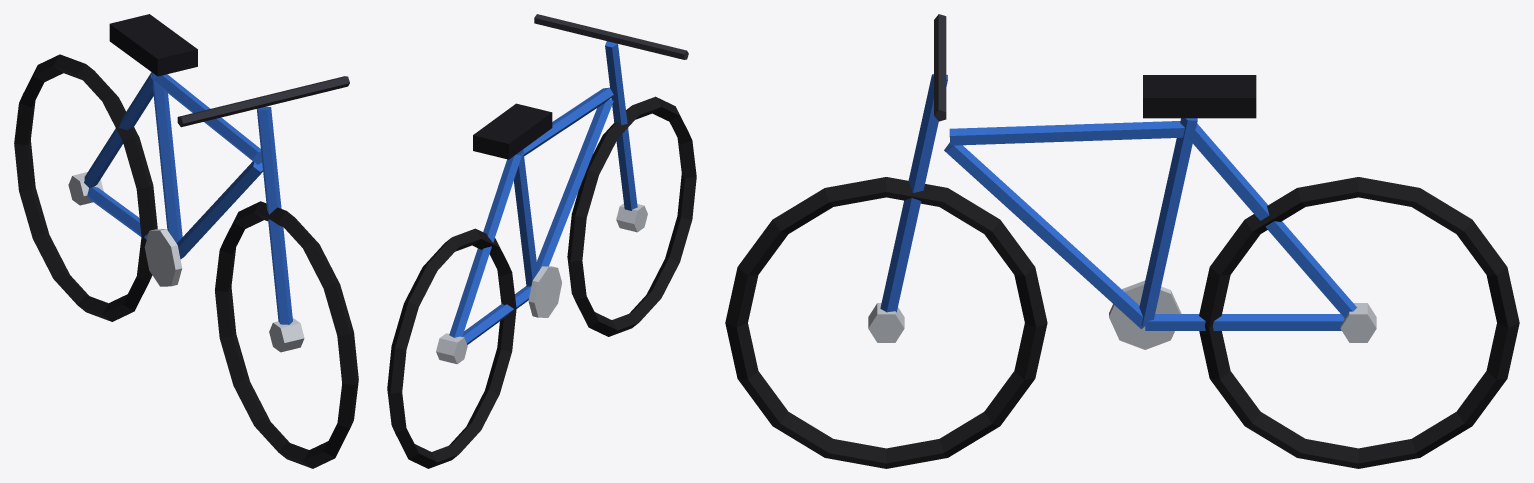
Rendered from bicycle.glb.
The picture shows the model from 3 angles, left to right: view 1: azimuth 30°, elevation 25°; view 2: azimuth 150°, elevation 25°; view 3: azimuth 270°, elevation 25°; orthographic projection. The views are drawn at different scales.
Visible parts, largest first — view 1: bicycle; view 2: bicycle; view 3: bicycle.
Part boxes in pixels (left/top/right/bottom): bicycle: left=14, top=14, right=358, bottom=468; bicycle: left=387, top=14, right=696, bottom=468; bicycle: left=725, top=14, right=1519, bottom=468.
Bounding box in the file's own units: 0.5 × 0.9893 × 1.75.
